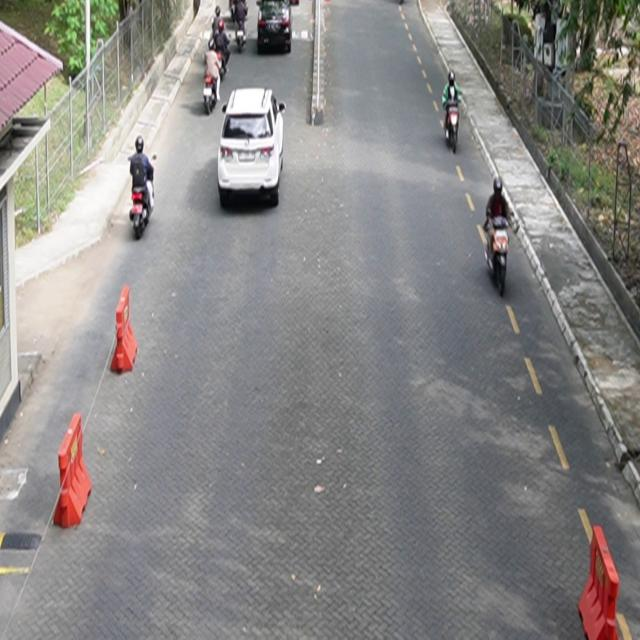car: (219, 88, 288, 209), (257, 1, 293, 55)
